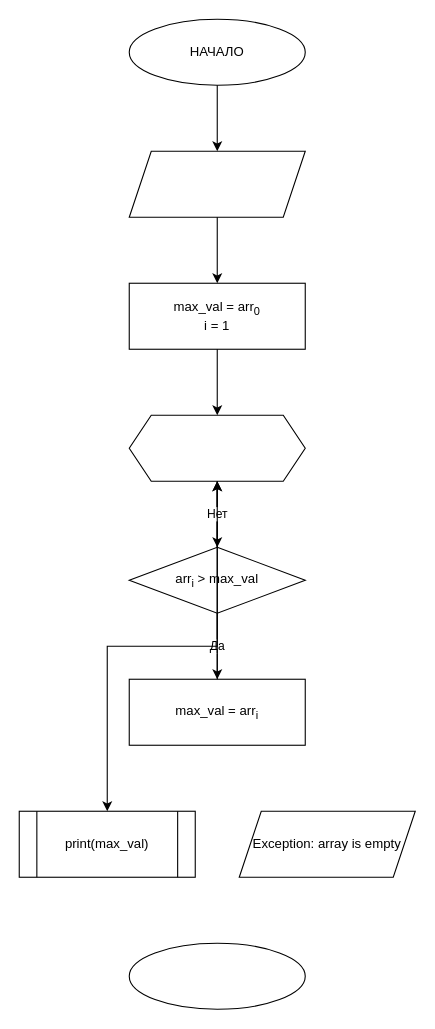
This 435x1029 diagram has some shape labels left out. The shapes that lost their labels are listed below. From the top down, each one's centre as x and y in pixels, then its label:
At pixel 216 183: "arr, n".
At pixel 216 447: "i = 1, n - 1".
At pixel 216 975: "КОНЕЦ".
